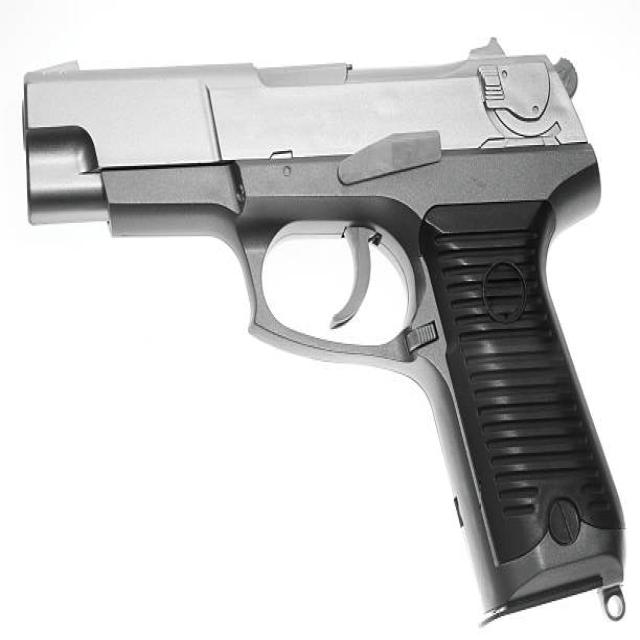pistol: (14, 32, 635, 627)
